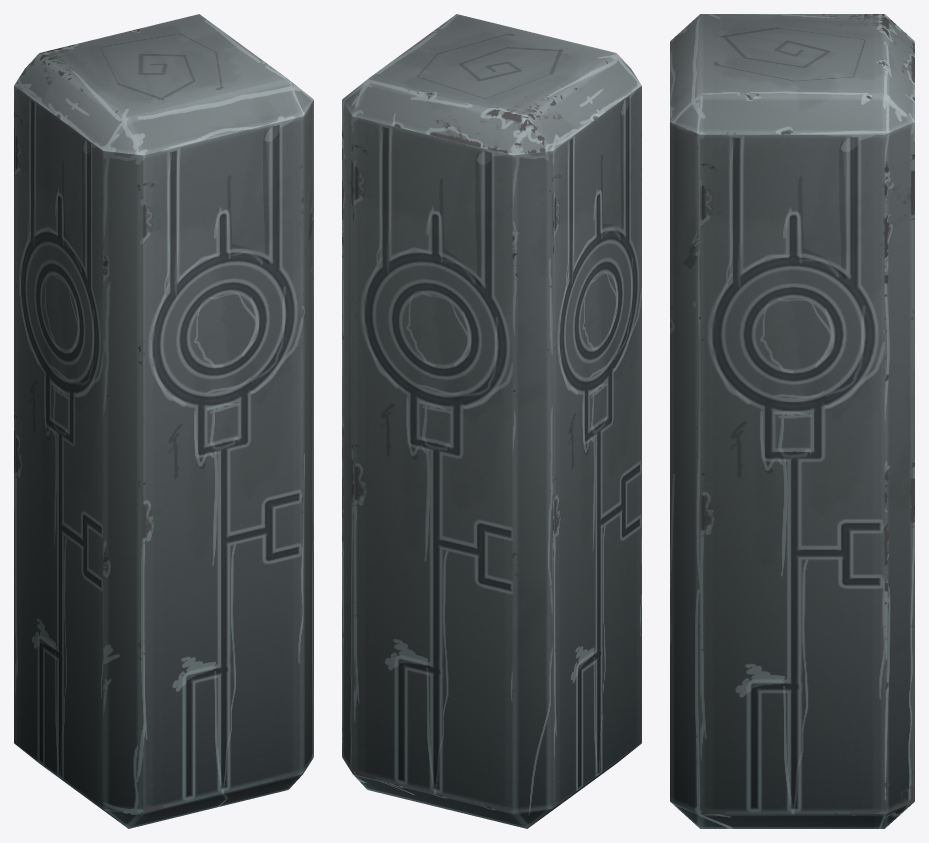
The model's file is puzzle_rectangle_circle.FBX.
3 views of the same model, side by side, from view 1: azimuth 30°, elevation 25°; view 2: azimuth 150°, elevation 25°; view 3: azimuth 270°, elevation 25° (orthographic). The views are drawn at different scales.
Visible parts, largest first — view 1: puzzle_rectangle_circle; view 2: puzzle_rectangle_circle; view 3: puzzle_rectangle_circle.
Part boxes in pixels (x1,y1,x2,y2): puzzle_rectangle_circle: (14, 14, 313, 828); puzzle_rectangle_circle: (342, 14, 641, 828); puzzle_rectangle_circle: (670, 14, 914, 828).
Size of the model in its own units: 23.32 by 75.21 by 22.72.
1 material, 1 textured.
